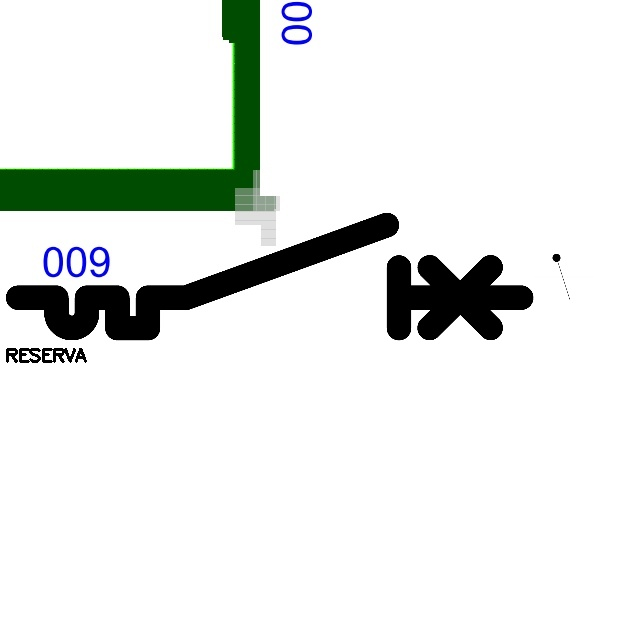interruptor_termomagnetico: (5, 212, 534, 341)
